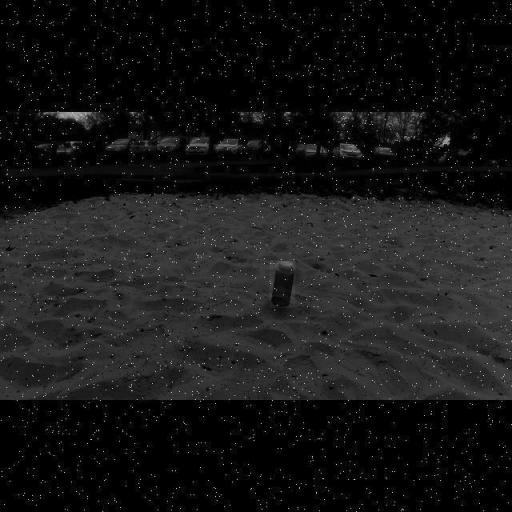bottle: (270, 261, 294, 309)
